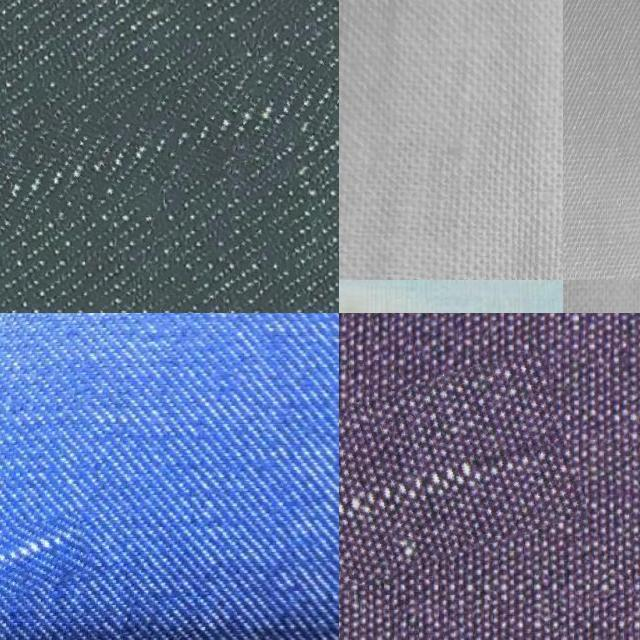Thread_other: (0, 53, 339, 232), (339, 373, 581, 603), (0, 518, 91, 596)
